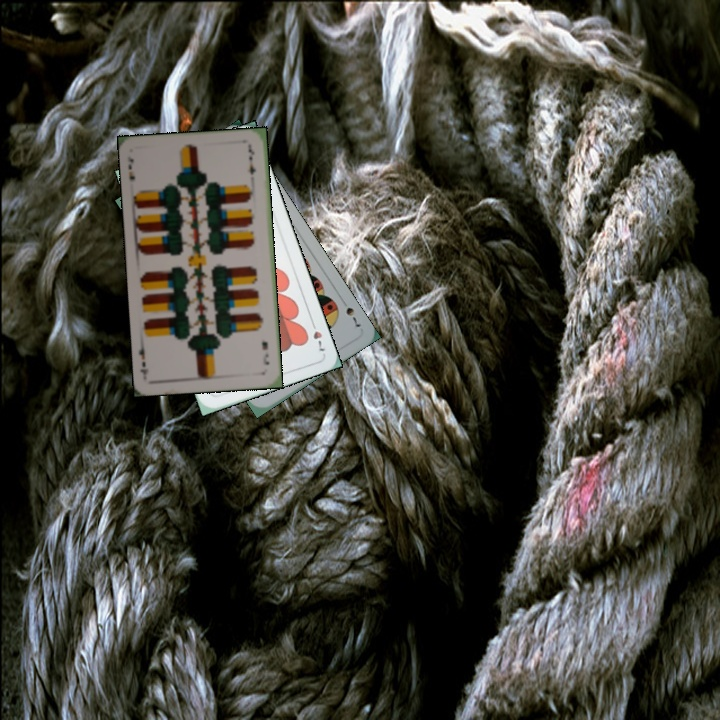E7: (258, 337, 272, 367), (124, 152, 137, 182)
H7: (307, 316, 328, 354)
S7: (337, 295, 364, 330)
